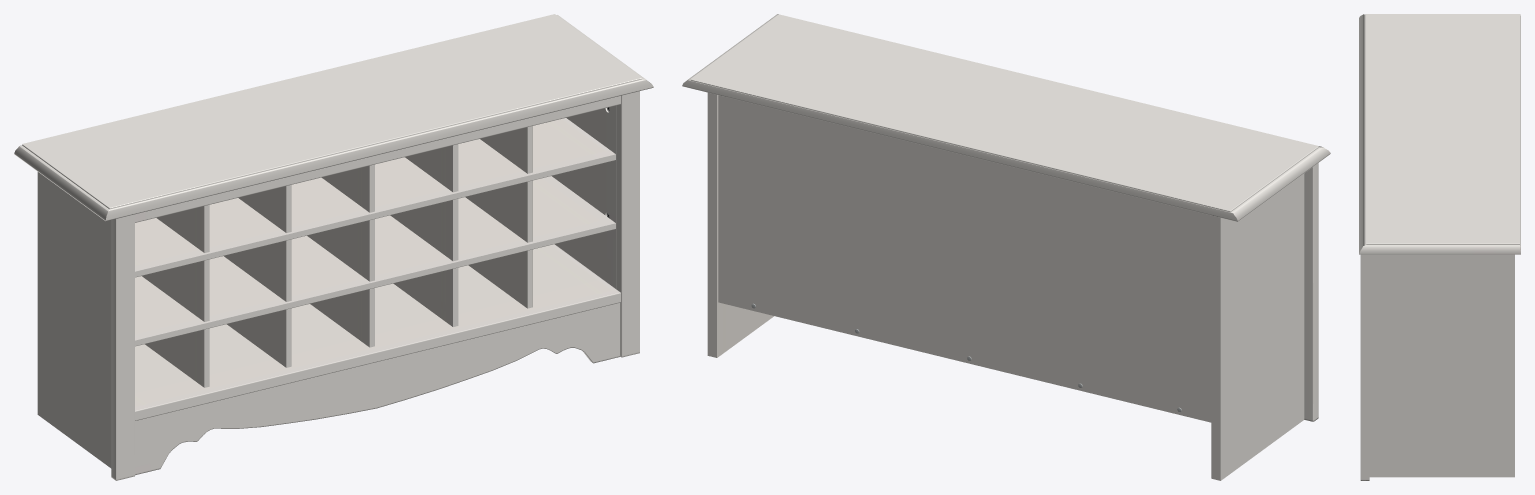
3 renders of one model, left to right at view 1: azimuth 30°, elevation 25°; view 2: azimuth 150°, elevation 25°; view 3: azimuth 270°, elevation 25°, orthographic. The views are drawn at different scales.
Parts seen in each view (by area): view 1: RootNode; view 2: RootNode; view 3: RootNode.
Boxes of the visible parts, x1,y1,x2,y2 form: RootNode: [14, 14, 653, 480]; RootNode: [682, 14, 1330, 480]; RootNode: [1359, 14, 1520, 480].
Bounding box in the file's own units: 1.12 × 0.5313 × 0.3244.
1 material, 1 textured.
